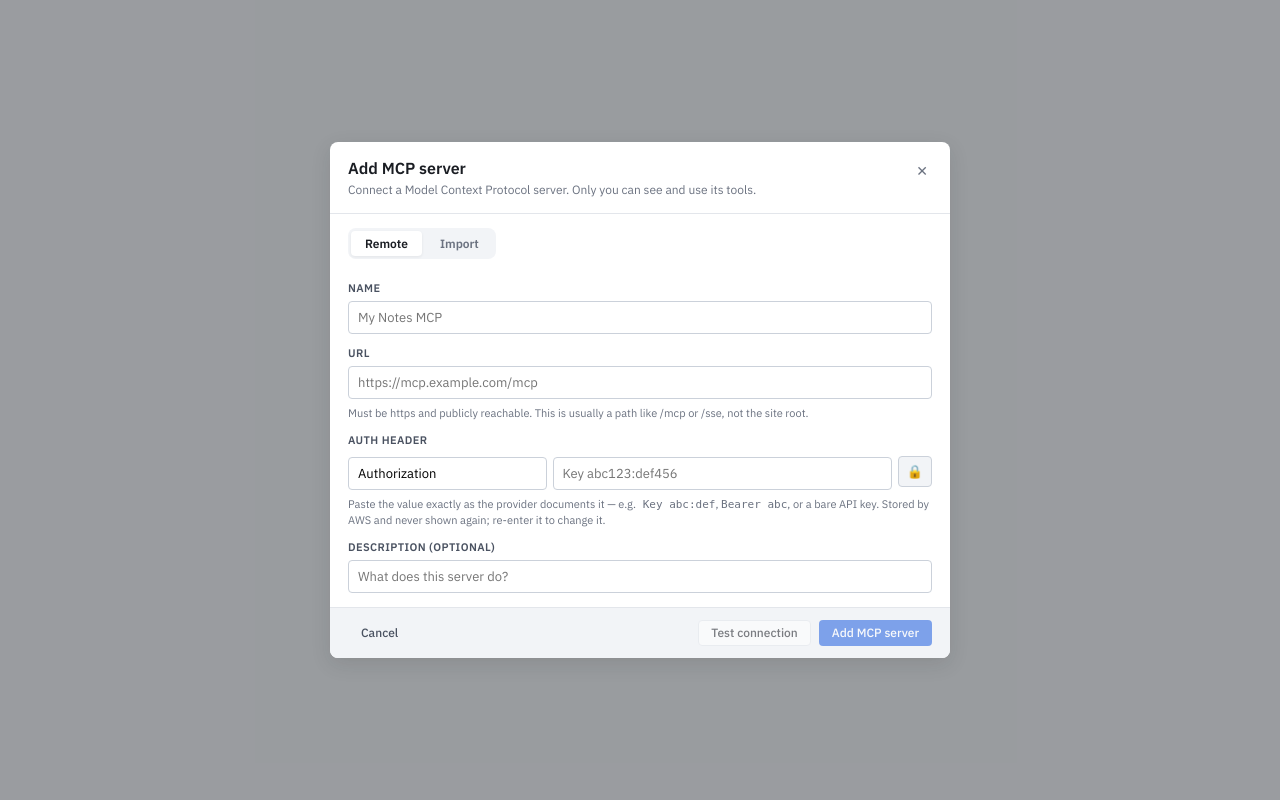
Scenario: probe result › reports the discovered tools, which is what catches a wrong path
Type "https://m.example.com/mcp" into the field with placeholder "https://mcp.example.com/mcp" at (640, 382), box [348, 366, 932, 399]
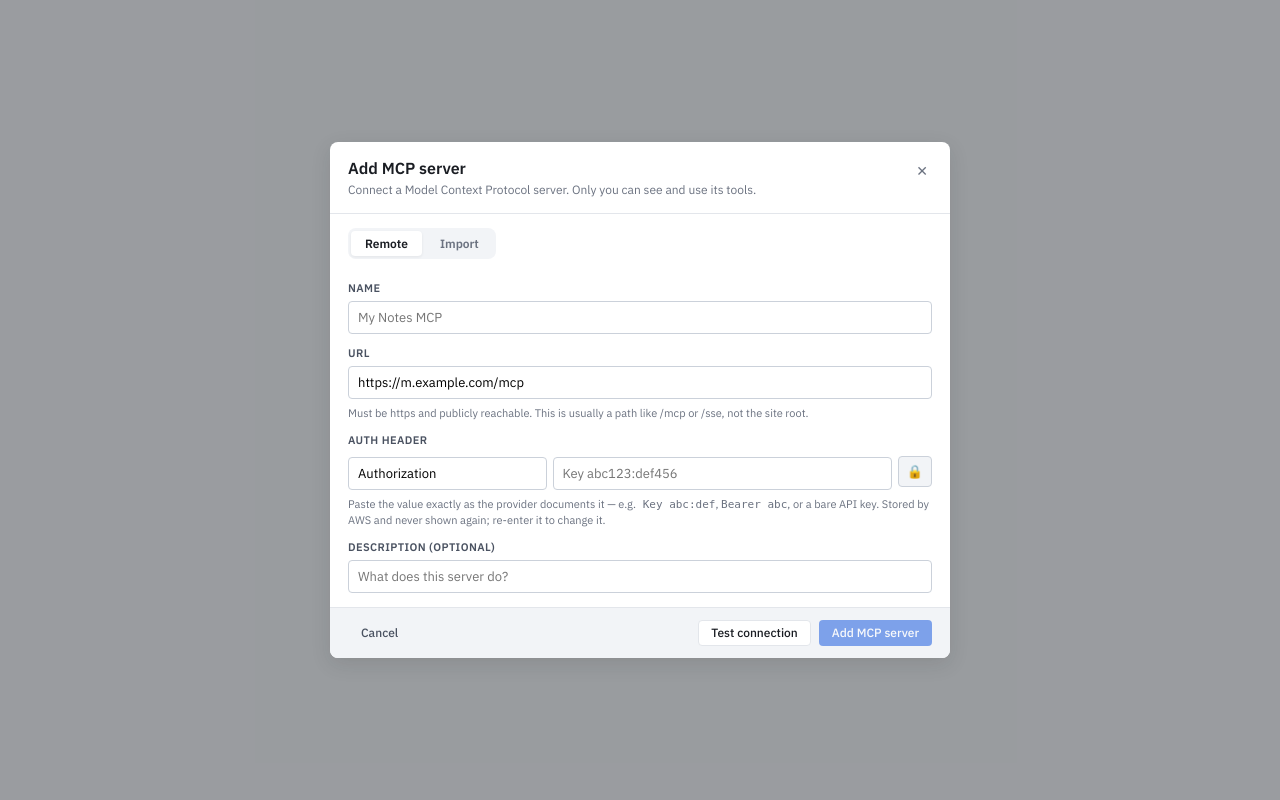
Click the button "Test connection" at (755, 633), box [698, 620, 811, 646]
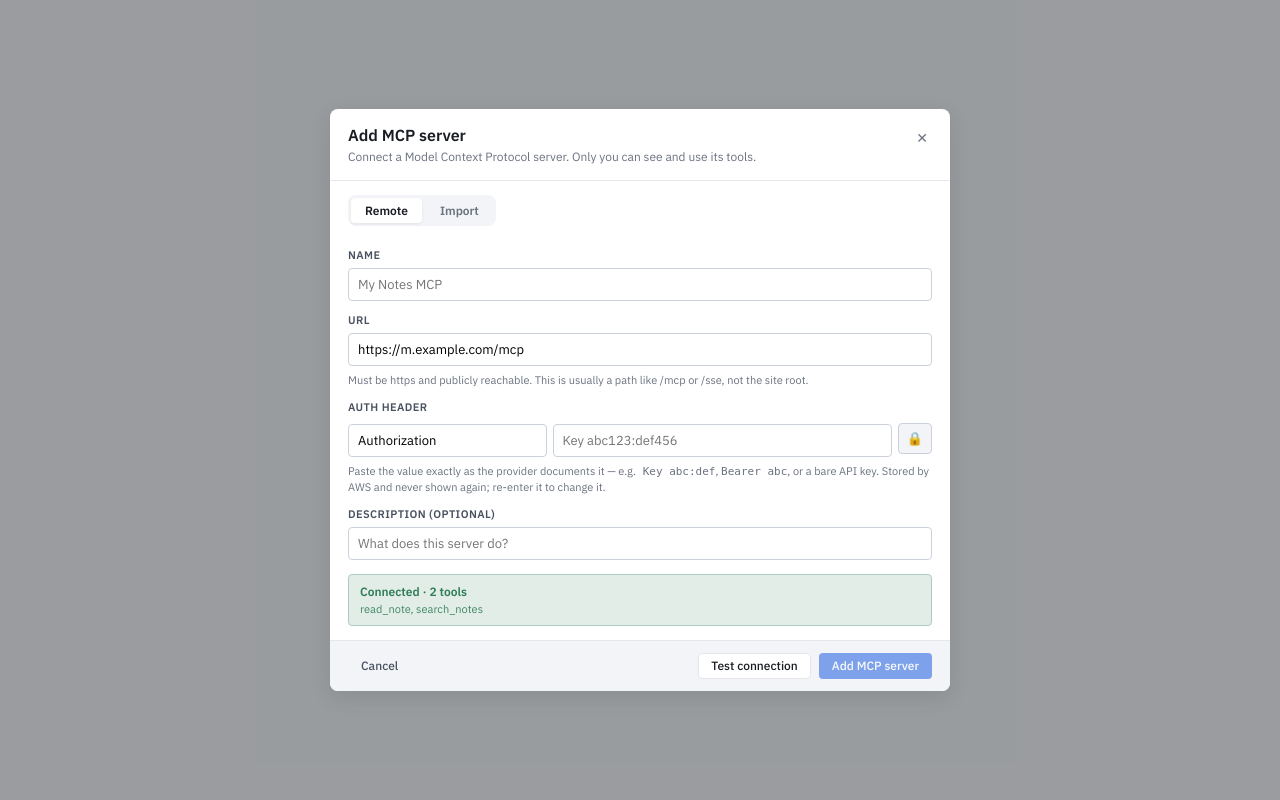
Expected: the text "Connected · 2 tools" is shown, [360, 584, 467, 599]
Expected: the text "read_note, search_notes" is shown, [360, 602, 483, 616]
